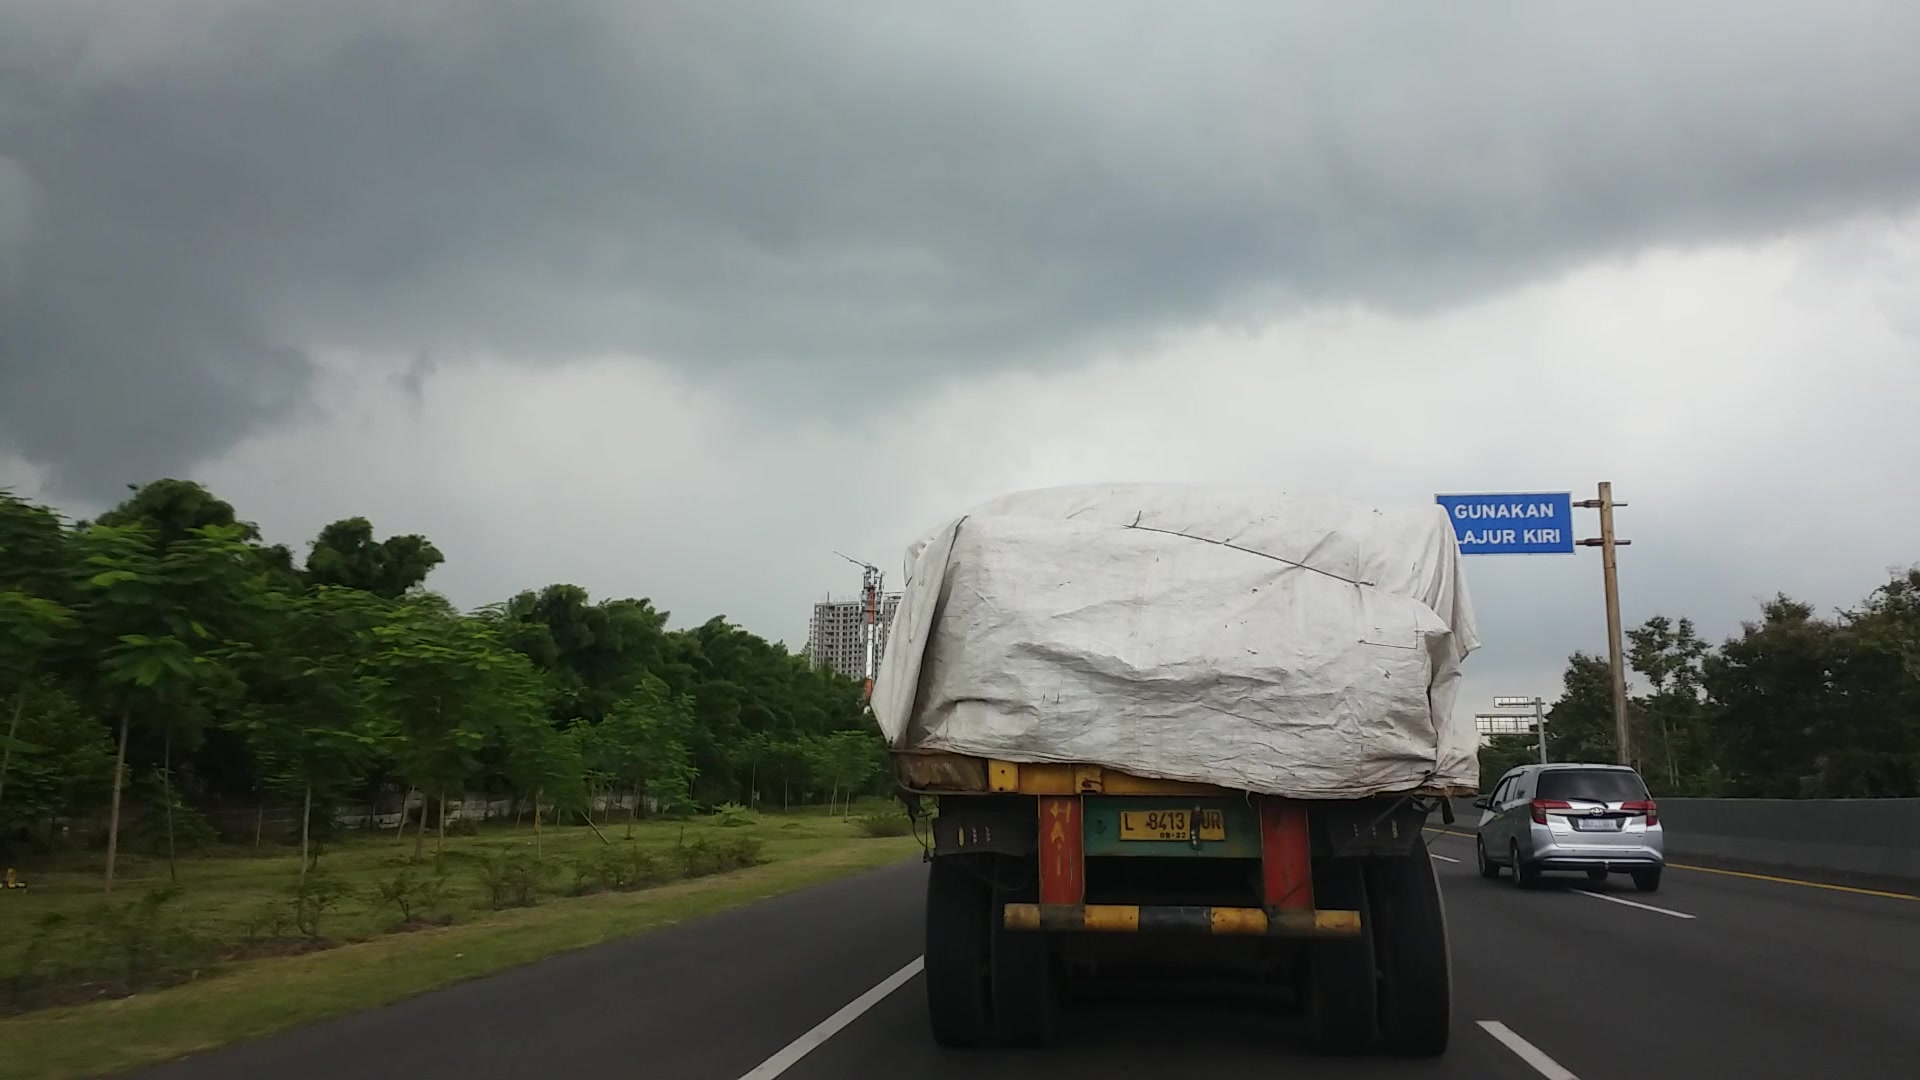plate_positive: (1118, 808, 1225, 840)
